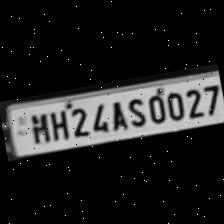0: (141, 88, 166, 125), (161, 86, 184, 122)
2: (180, 84, 206, 120), (64, 102, 88, 139)
4: (82, 99, 108, 135)
7: (197, 80, 223, 116)
A: (104, 96, 127, 132)
H: (44, 106, 68, 142)
M: (24, 110, 50, 146)
S: (120, 92, 148, 128)
